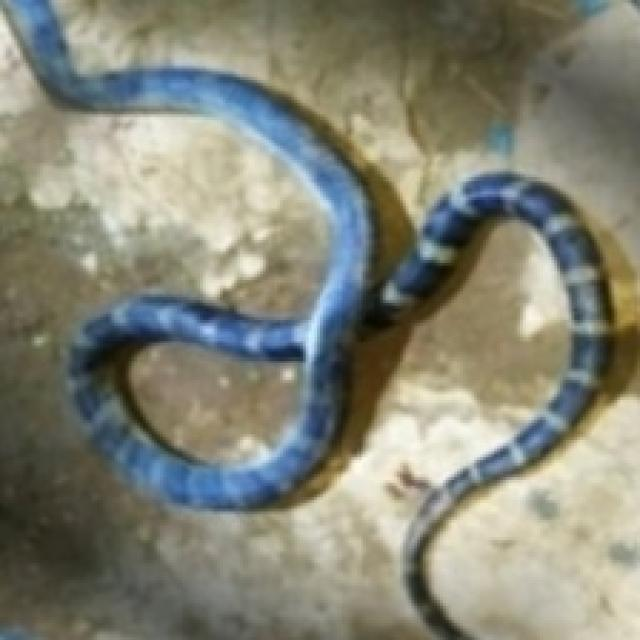king cobra: (0, 14, 566, 637), (57, 0, 637, 291), (426, 343, 637, 637), (137, 346, 291, 429)
